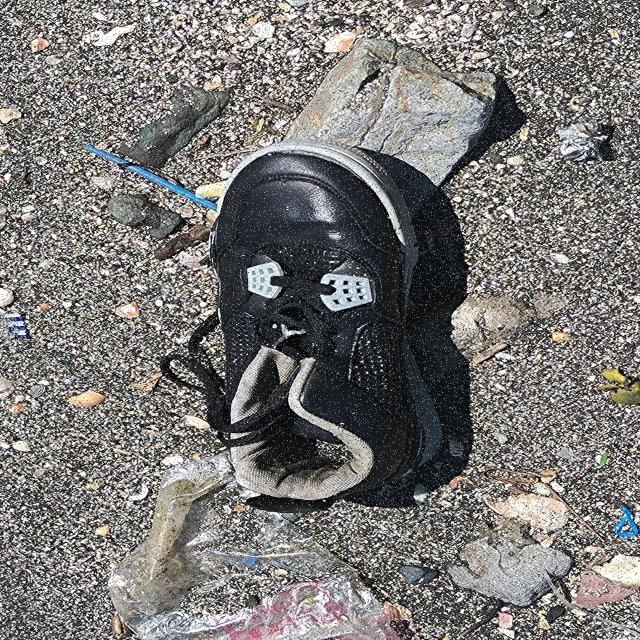plastic_waste: (84, 144, 220, 215)
rubber_waste: (159, 142, 449, 507)
